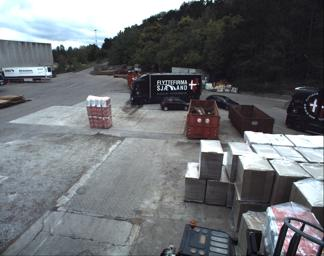rockwool_batts: (85, 93, 112, 128)
